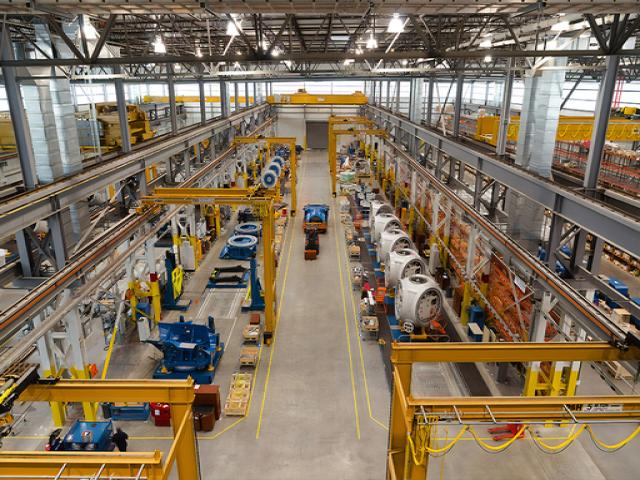conveyor: (425, 302, 503, 407)
